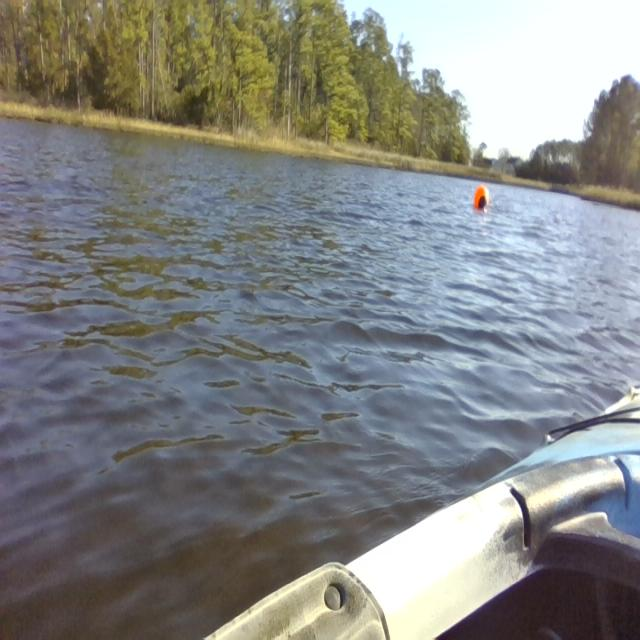Buoy: (470, 179, 493, 216)
